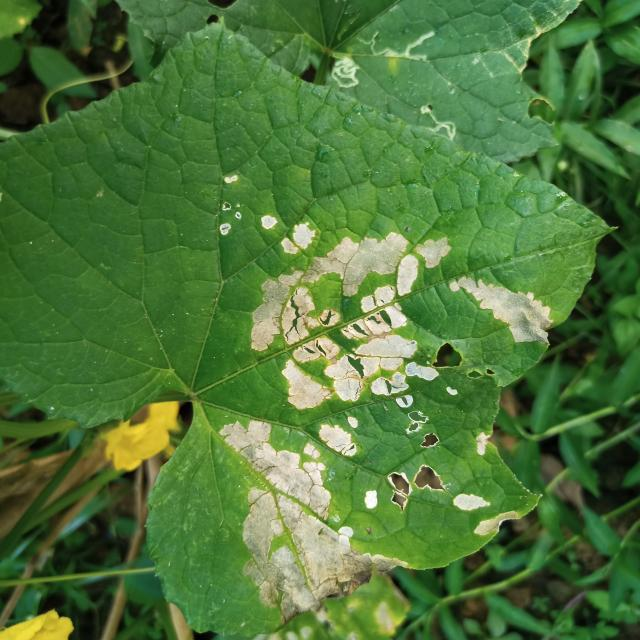disease_cucumber: (245, 211, 560, 420), (217, 415, 518, 622), (205, 168, 249, 244)
